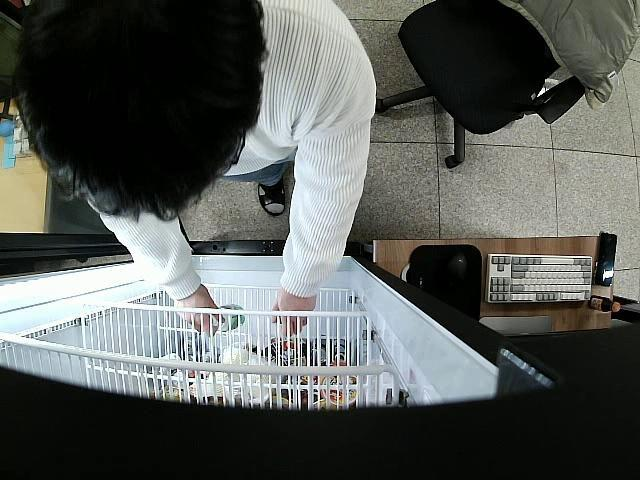18_trevi: (212, 304, 245, 330)
